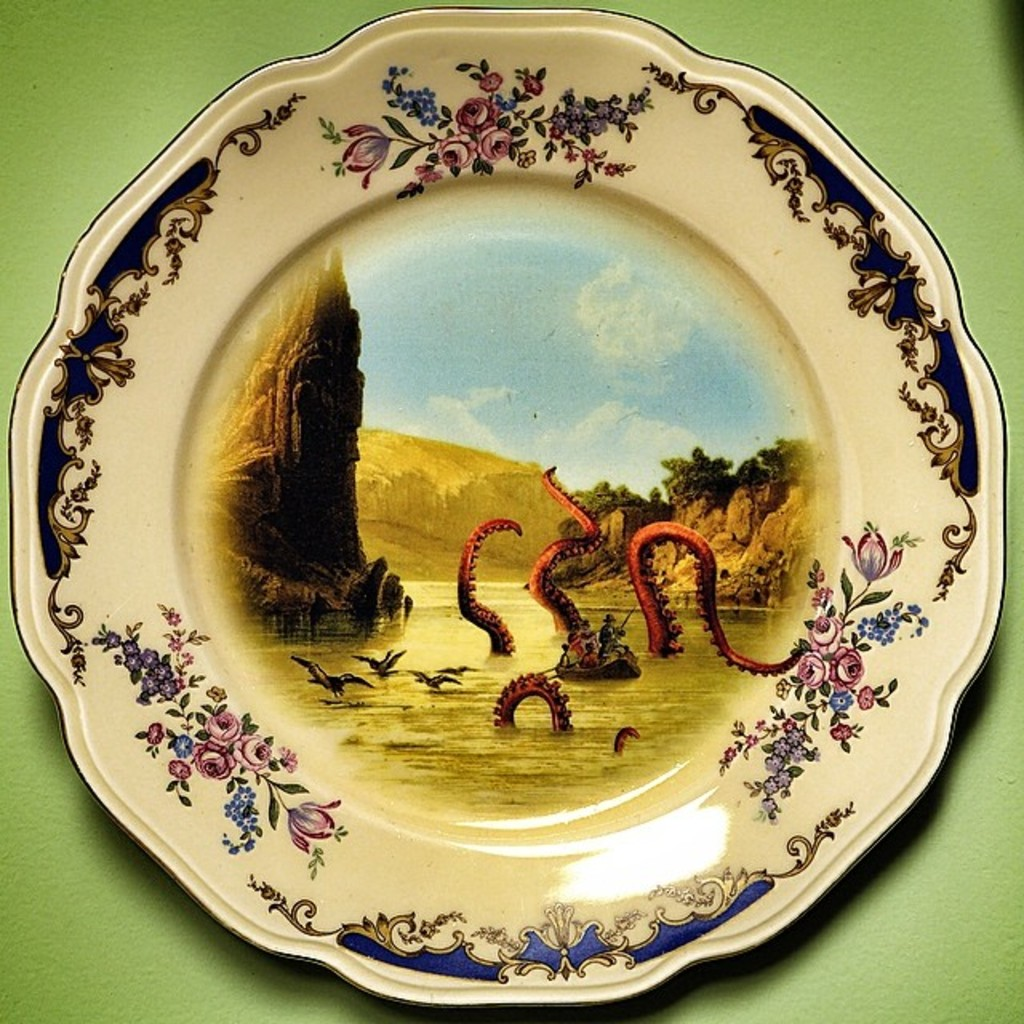plate: (7, 4, 1008, 1011)
